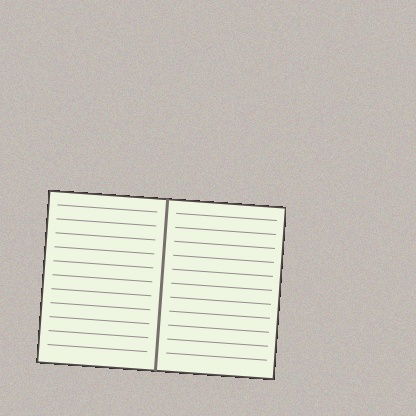book: (36, 190, 286, 380)
